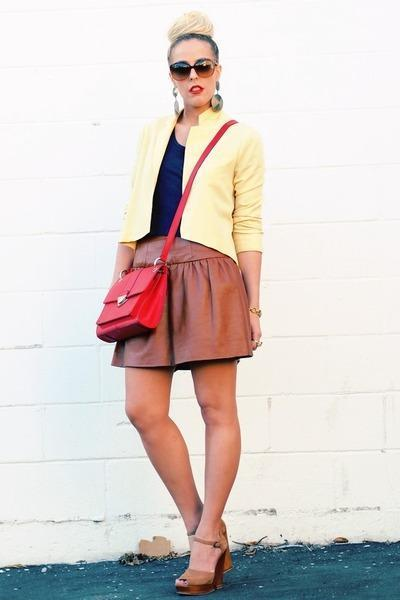bag: (96, 132, 224, 347)
jacket: (121, 108, 264, 261)
shirt: (137, 132, 185, 244)
shoe: (175, 516, 231, 599)
skirt: (111, 223, 261, 379)
sunglass: (169, 60, 210, 83)
